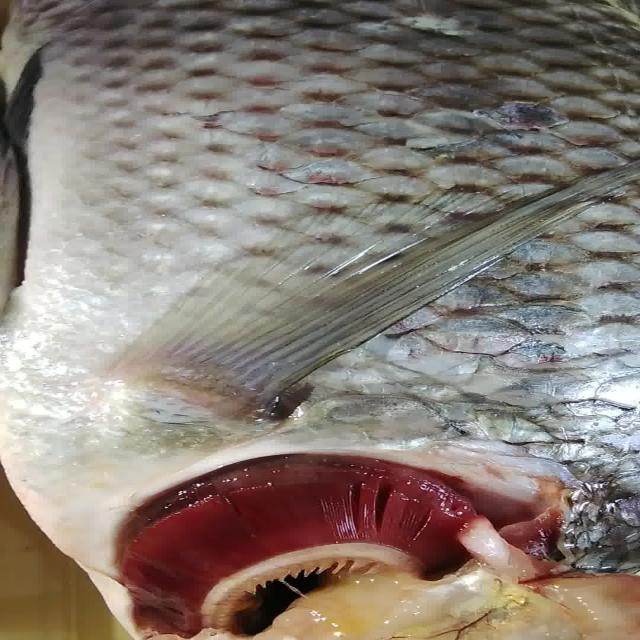Fresh: (81, 466, 497, 624)
